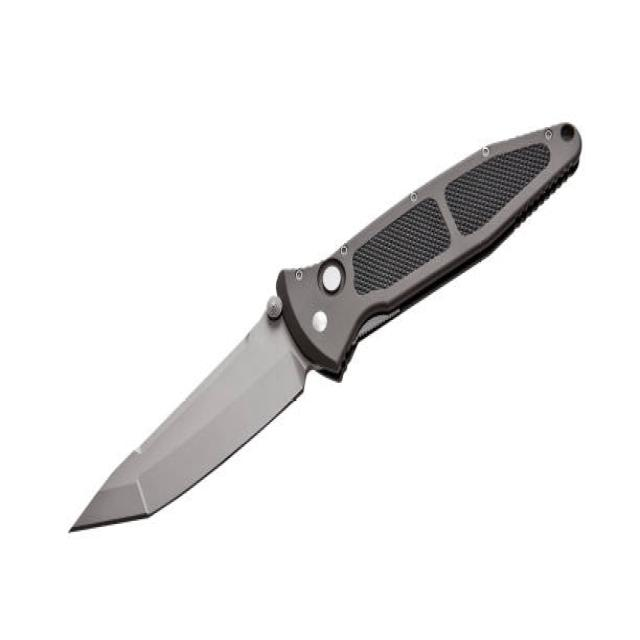knife: (66, 120, 588, 537)
